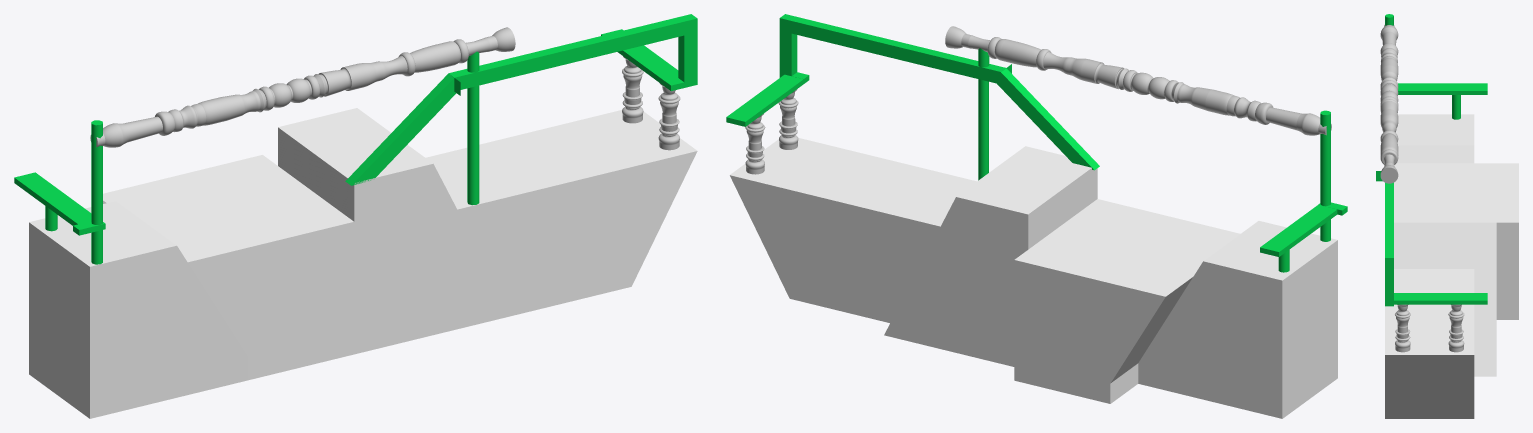
The model's file is asset.glb.
The picture shows the model from 3 angles, left to right: view 1: azimuth 30°, elevation 25°; view 2: azimuth 150°, elevation 25°; view 3: azimuth 270°, elevation 25°; orthographic projection. The views are drawn at different scales.
Visible parts, largest first — view 1: benchh; view 2: benchh; view 3: benchh.
Boxes of the visible parts, x1,y1,x2,y2 form: benchh: [14, 14, 697, 418]; benchh: [726, 14, 1347, 418]; benchh: [1376, 14, 1518, 418].
Size of the model in its own units: 26.91 by 12.12 by 7.36.
